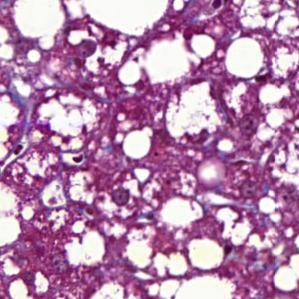steatosis: (226, 36, 265, 82)
